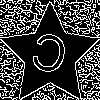C: (25, 30, 71, 86)
